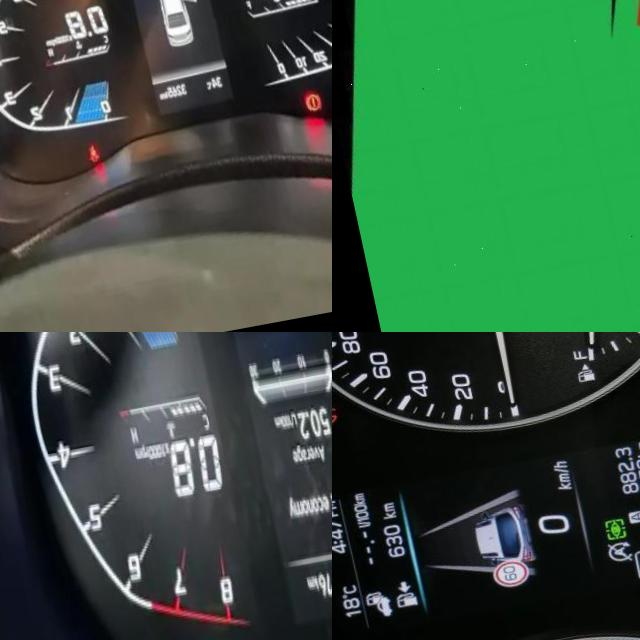Seat Belt: (68, 151, 81, 171)
